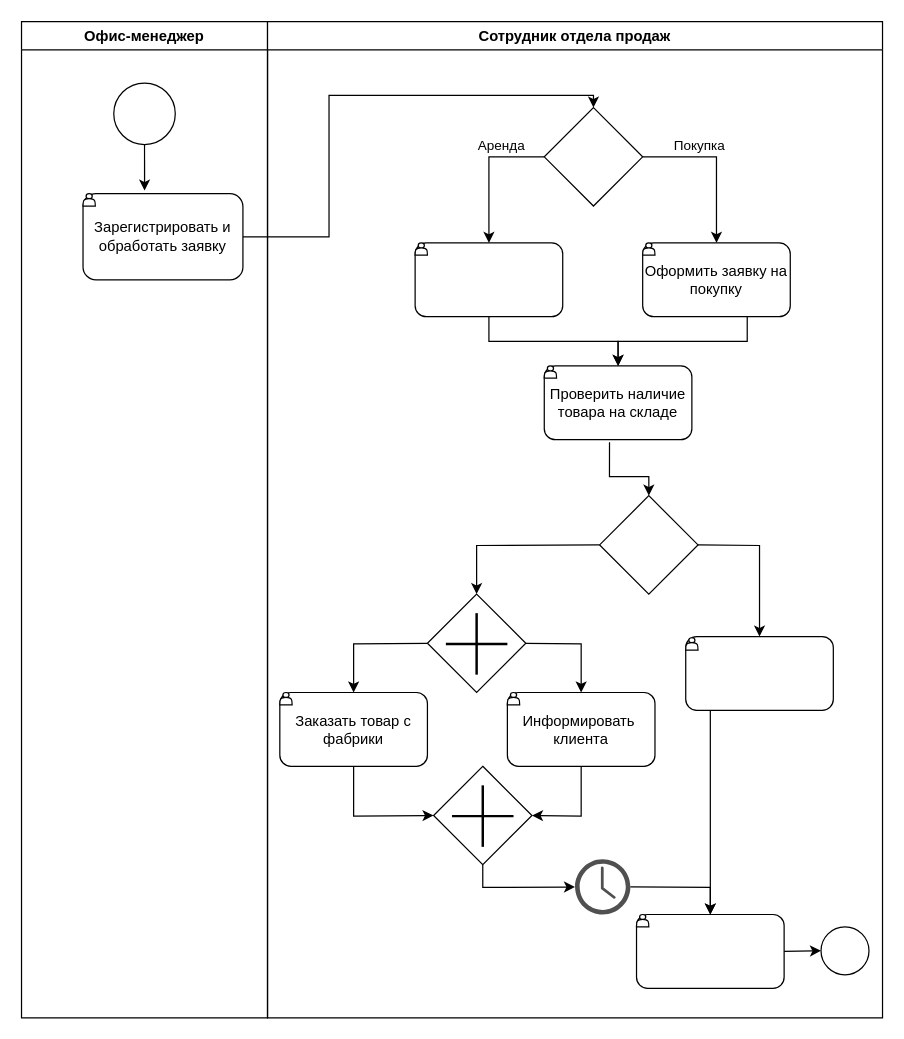
Image size: 904x1039. Some labels were removed from this diagram. The box of each missing label's shape, as (x1, y1, x2, y2) in pixels:
Выдача товара по заказу: (635, 913, 784, 988)
Забронировать товар на складе: (684, 635, 833, 710)
Оформить заявку на аренду: (414, 242, 563, 317)
